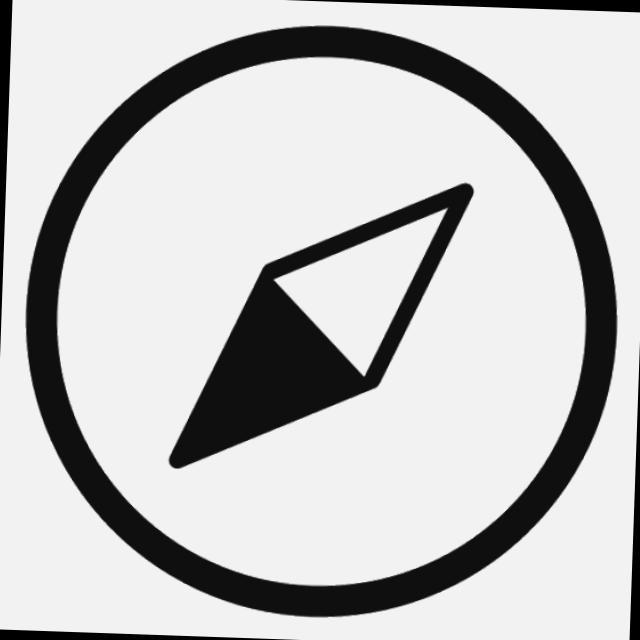compass: (4, 1, 637, 633)
